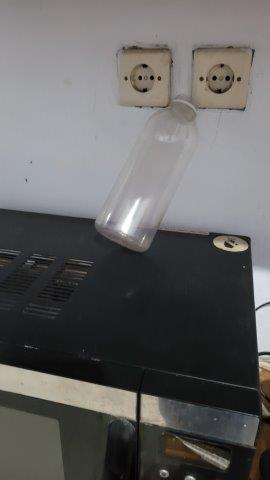botolplastik: (96, 92, 200, 253)
